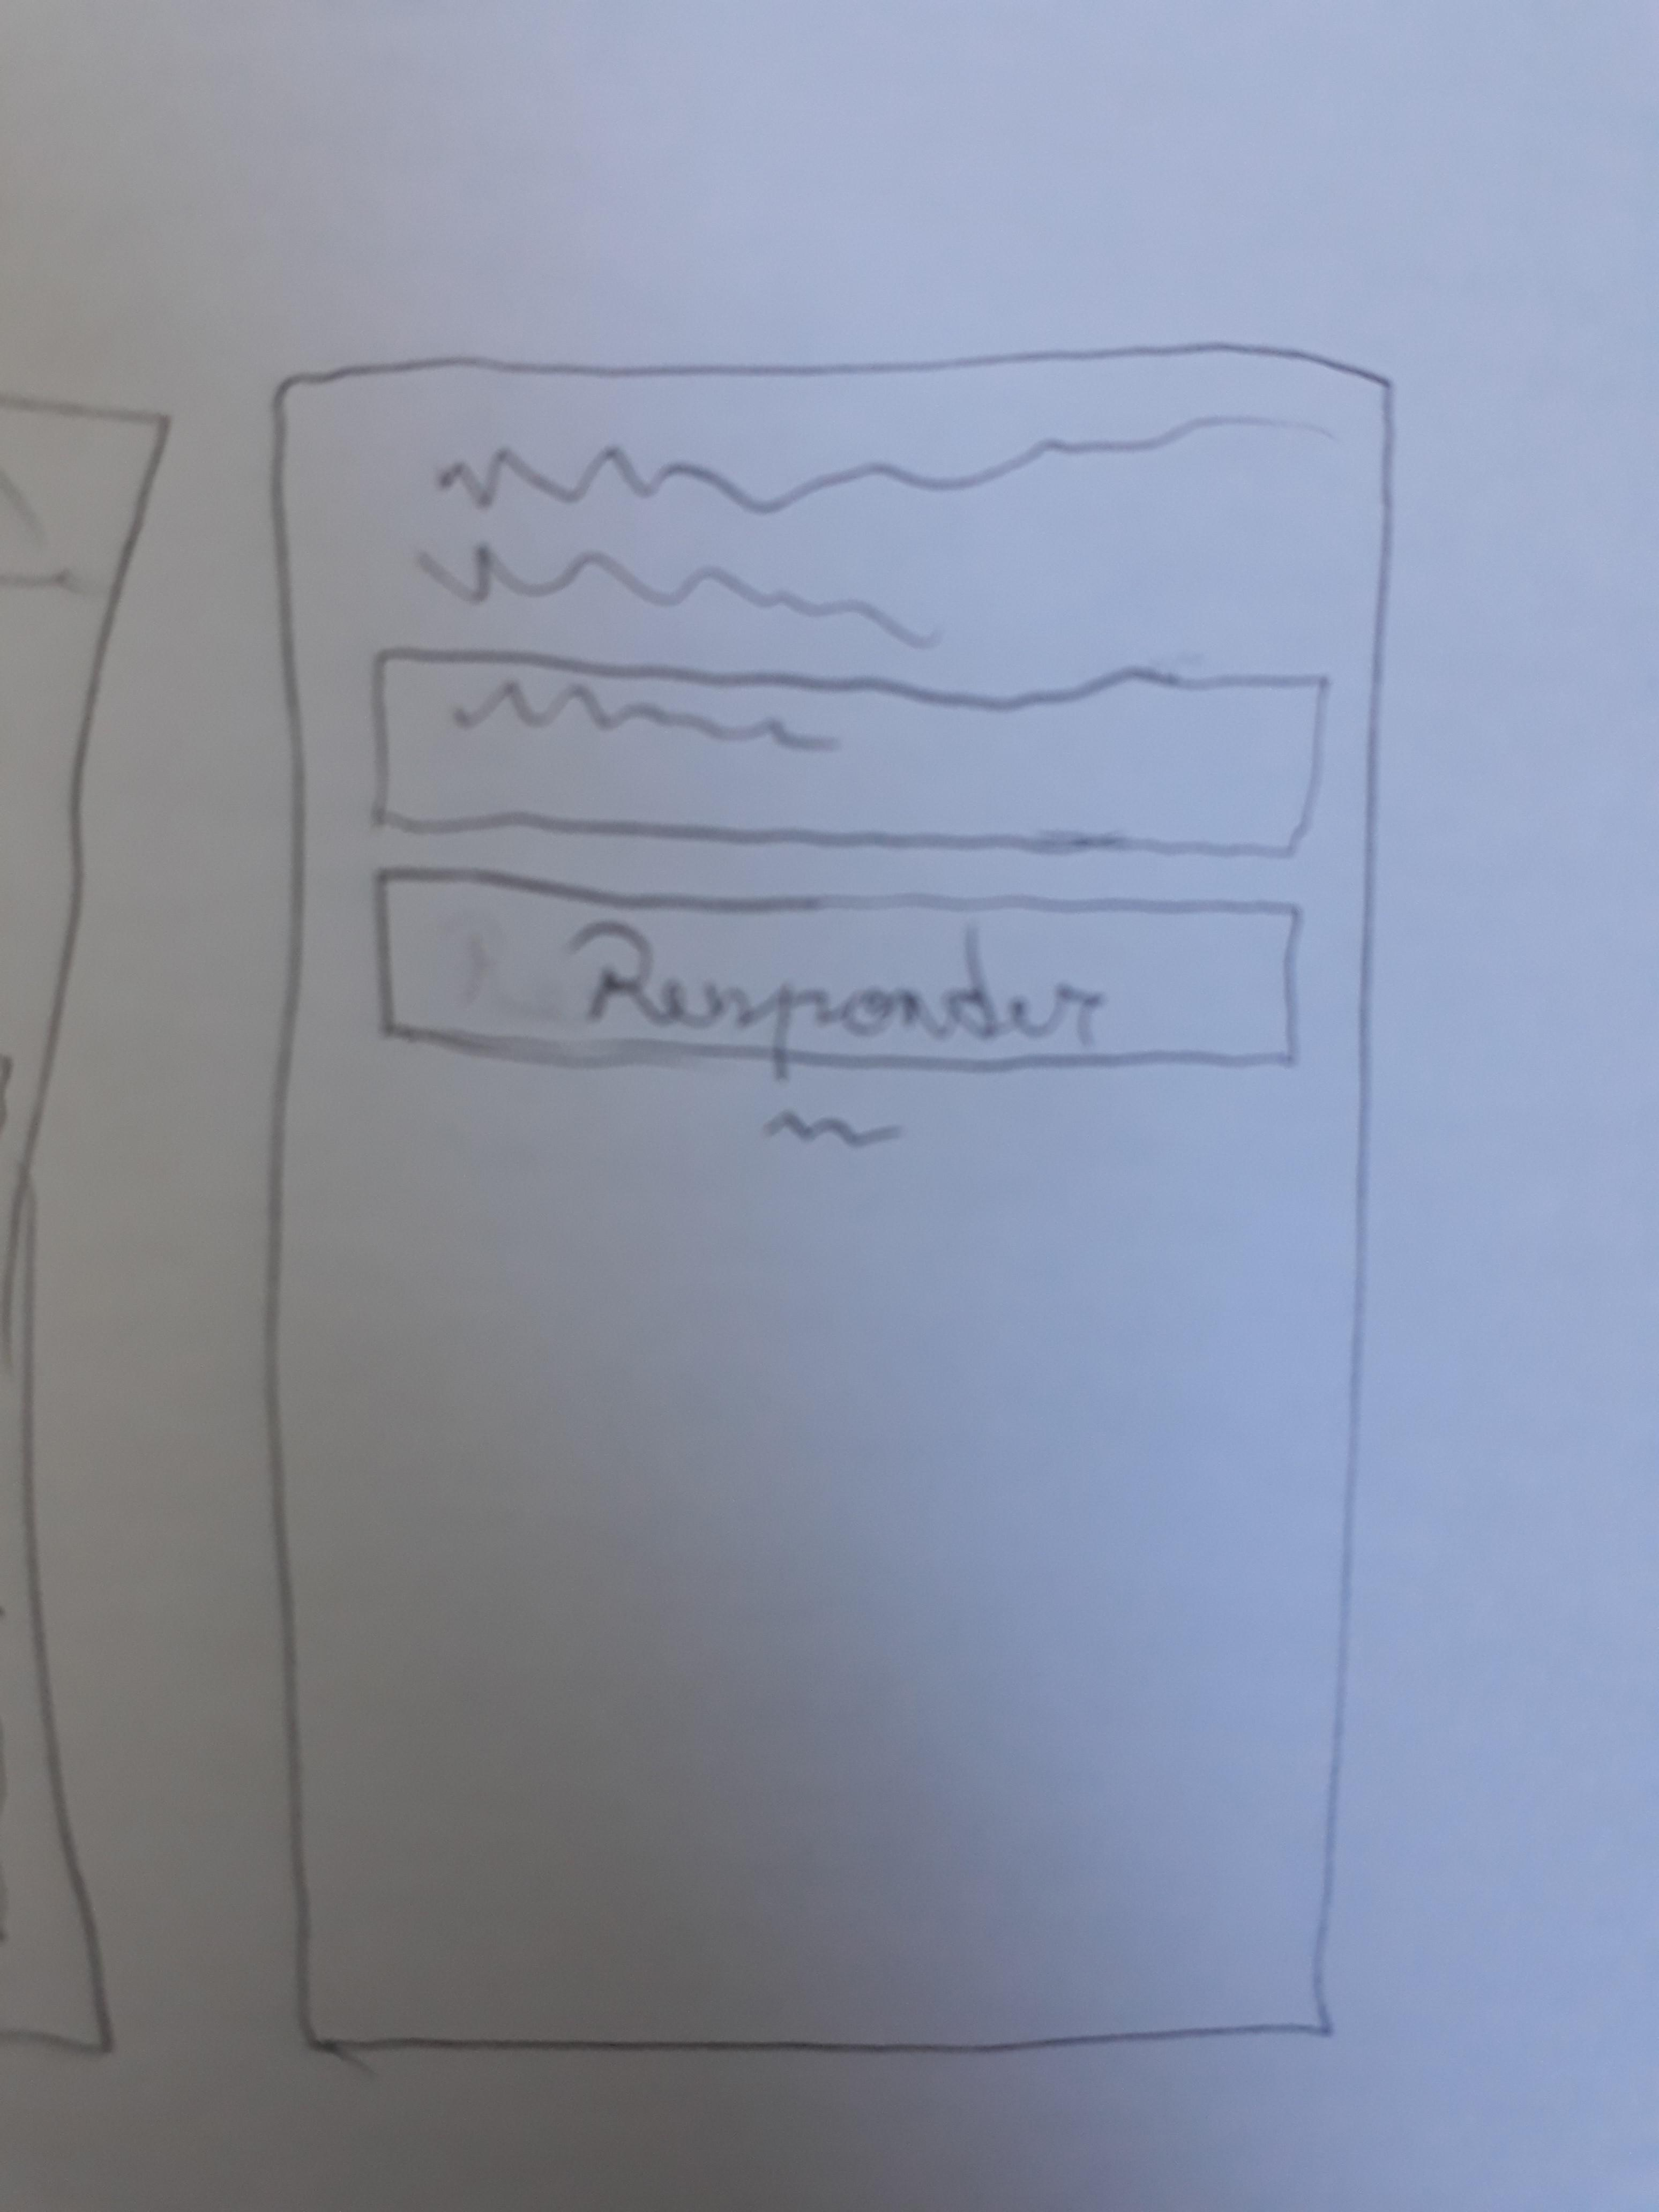Button: (376, 869, 1303, 1069)
Label: (415, 420, 1352, 648), (763, 1109, 906, 1150)
Screen: (272, 343, 1392, 2050)
TextBox: (373, 650, 1328, 859)
